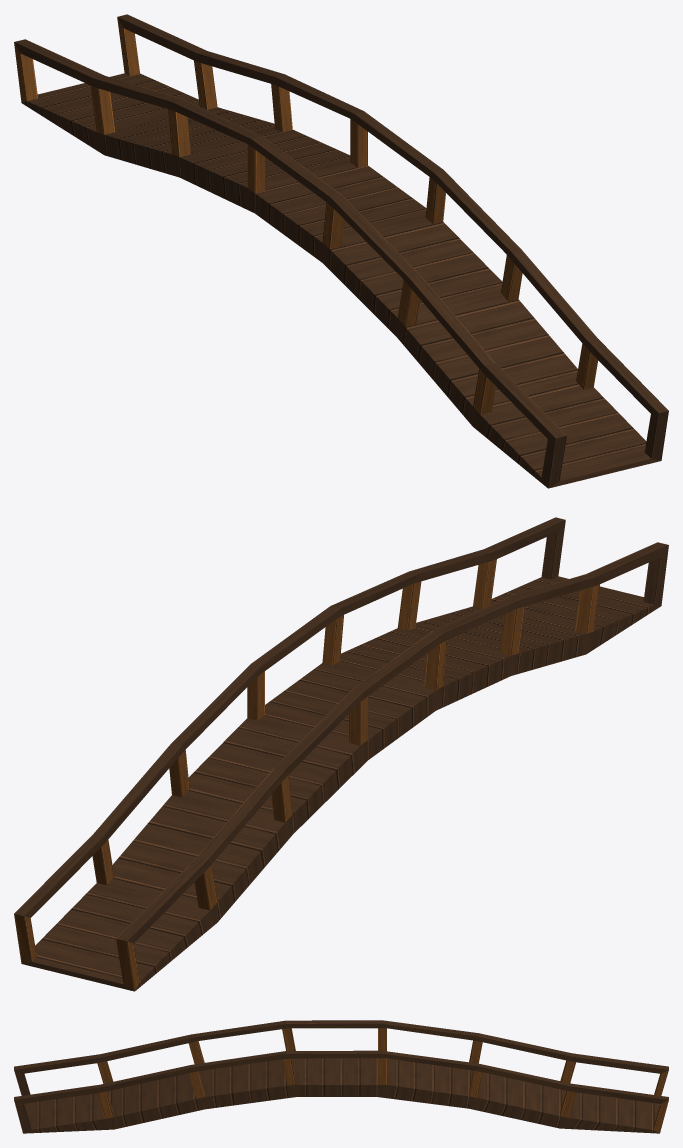
File: co_Bridge2.fbx
3 renders of one model, top to bottom at view 1: azimuth 30°, elevation 25°; view 2: azimuth 150°, elevation 25°; view 3: azimuth 270°, elevation 25°, orthographic. The views are drawn at different scales.
Visible parts, largest first — view 1: Bridge2; view 2: Bridge2; view 3: Bridge2.
Part boxes in pixels (x1=…): Bridge2: x1=14, y1=14, x2=668, y2=488; Bridge2: x1=14, y1=517, x2=668, y2=991; Bridge2: x1=14, y1=1020, x2=668, y2=1133.
Bounding box in the file's own units: 1162 × 1295 × 9620.
